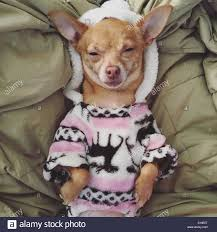chihuahua: (47, 7, 175, 109)
